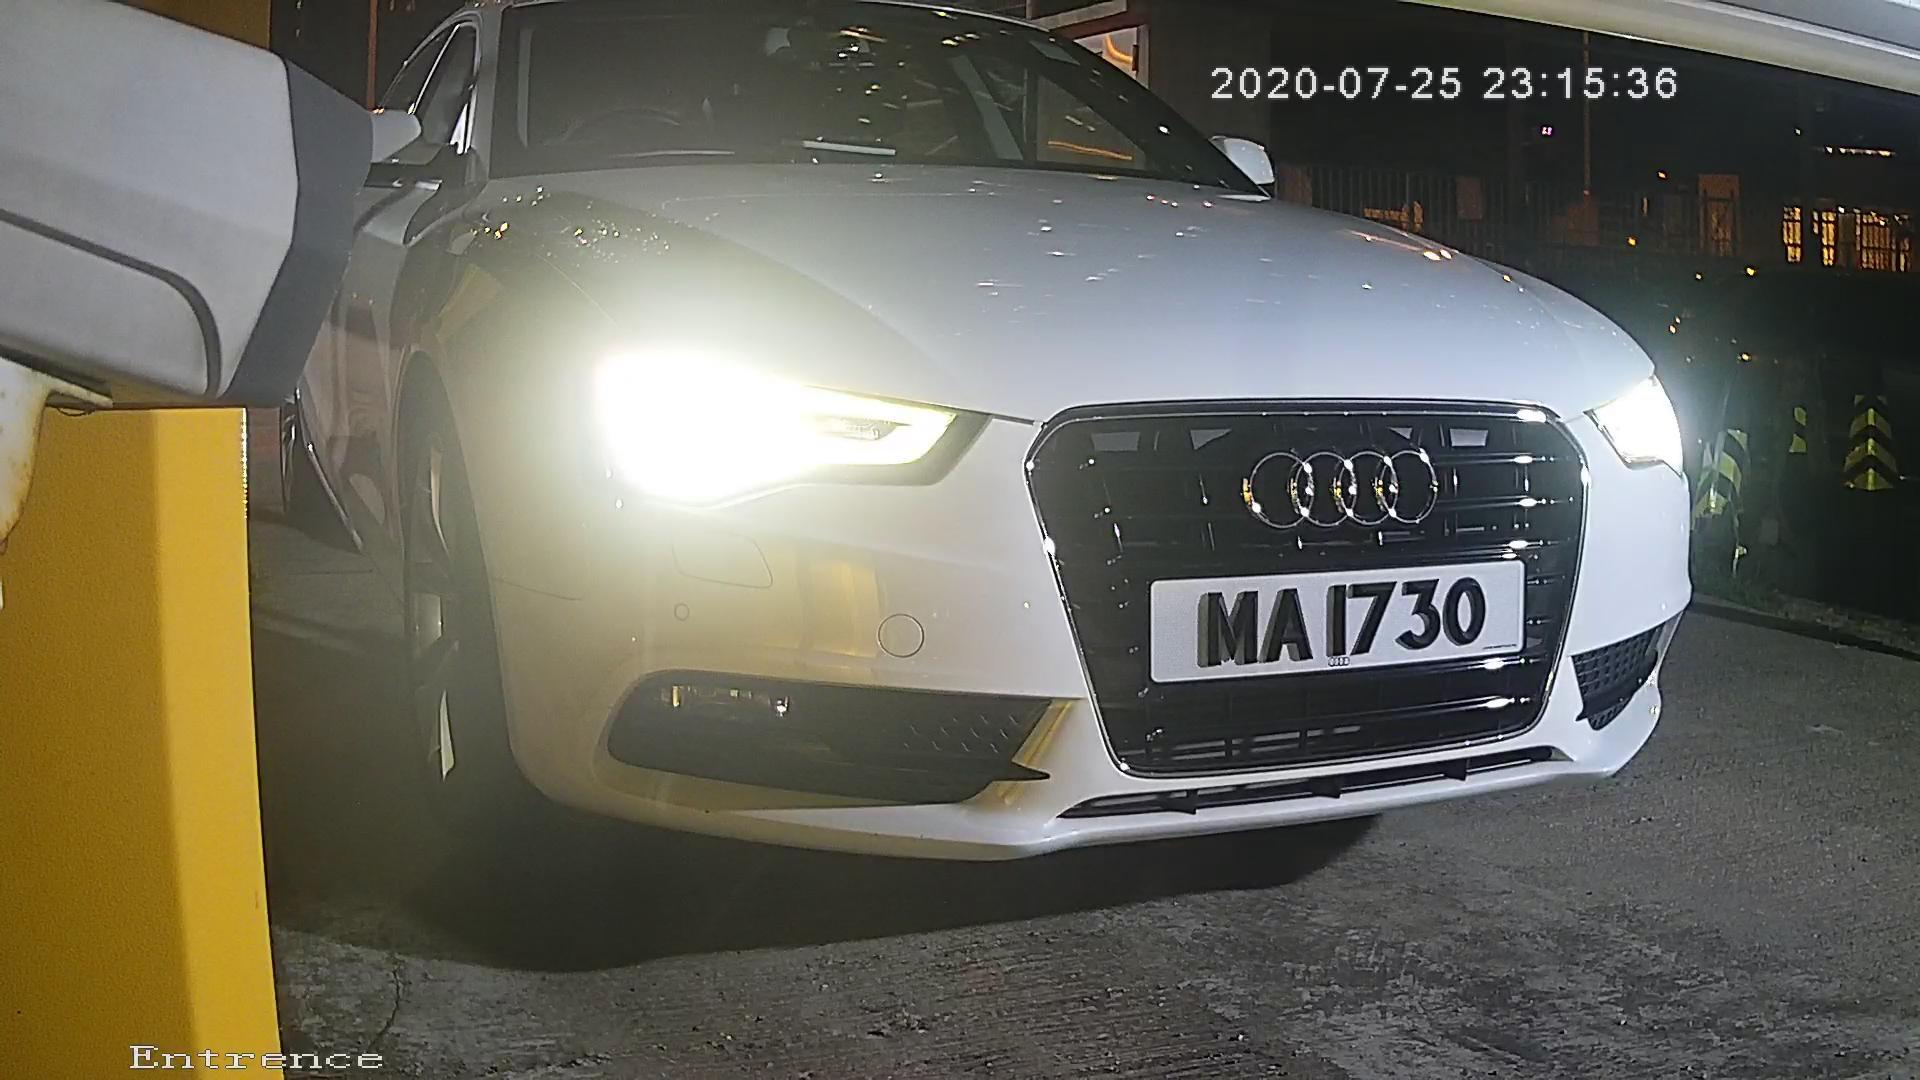privatecar: (369, 20, 1698, 884)
